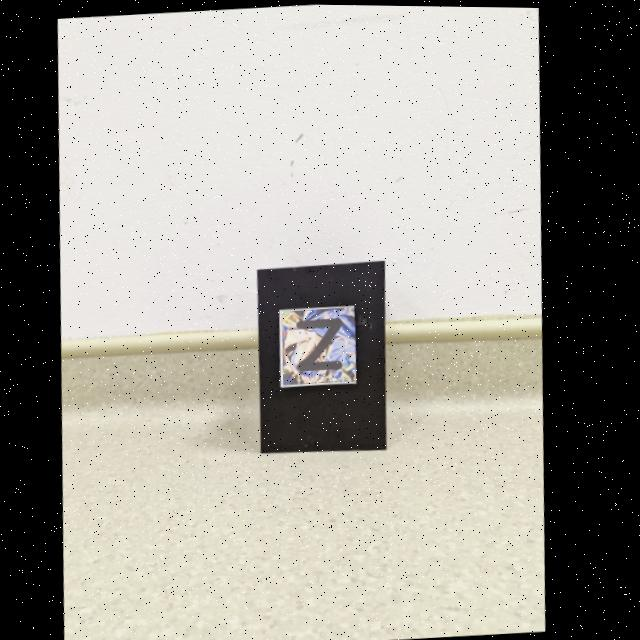Z: (300, 317, 347, 370)
